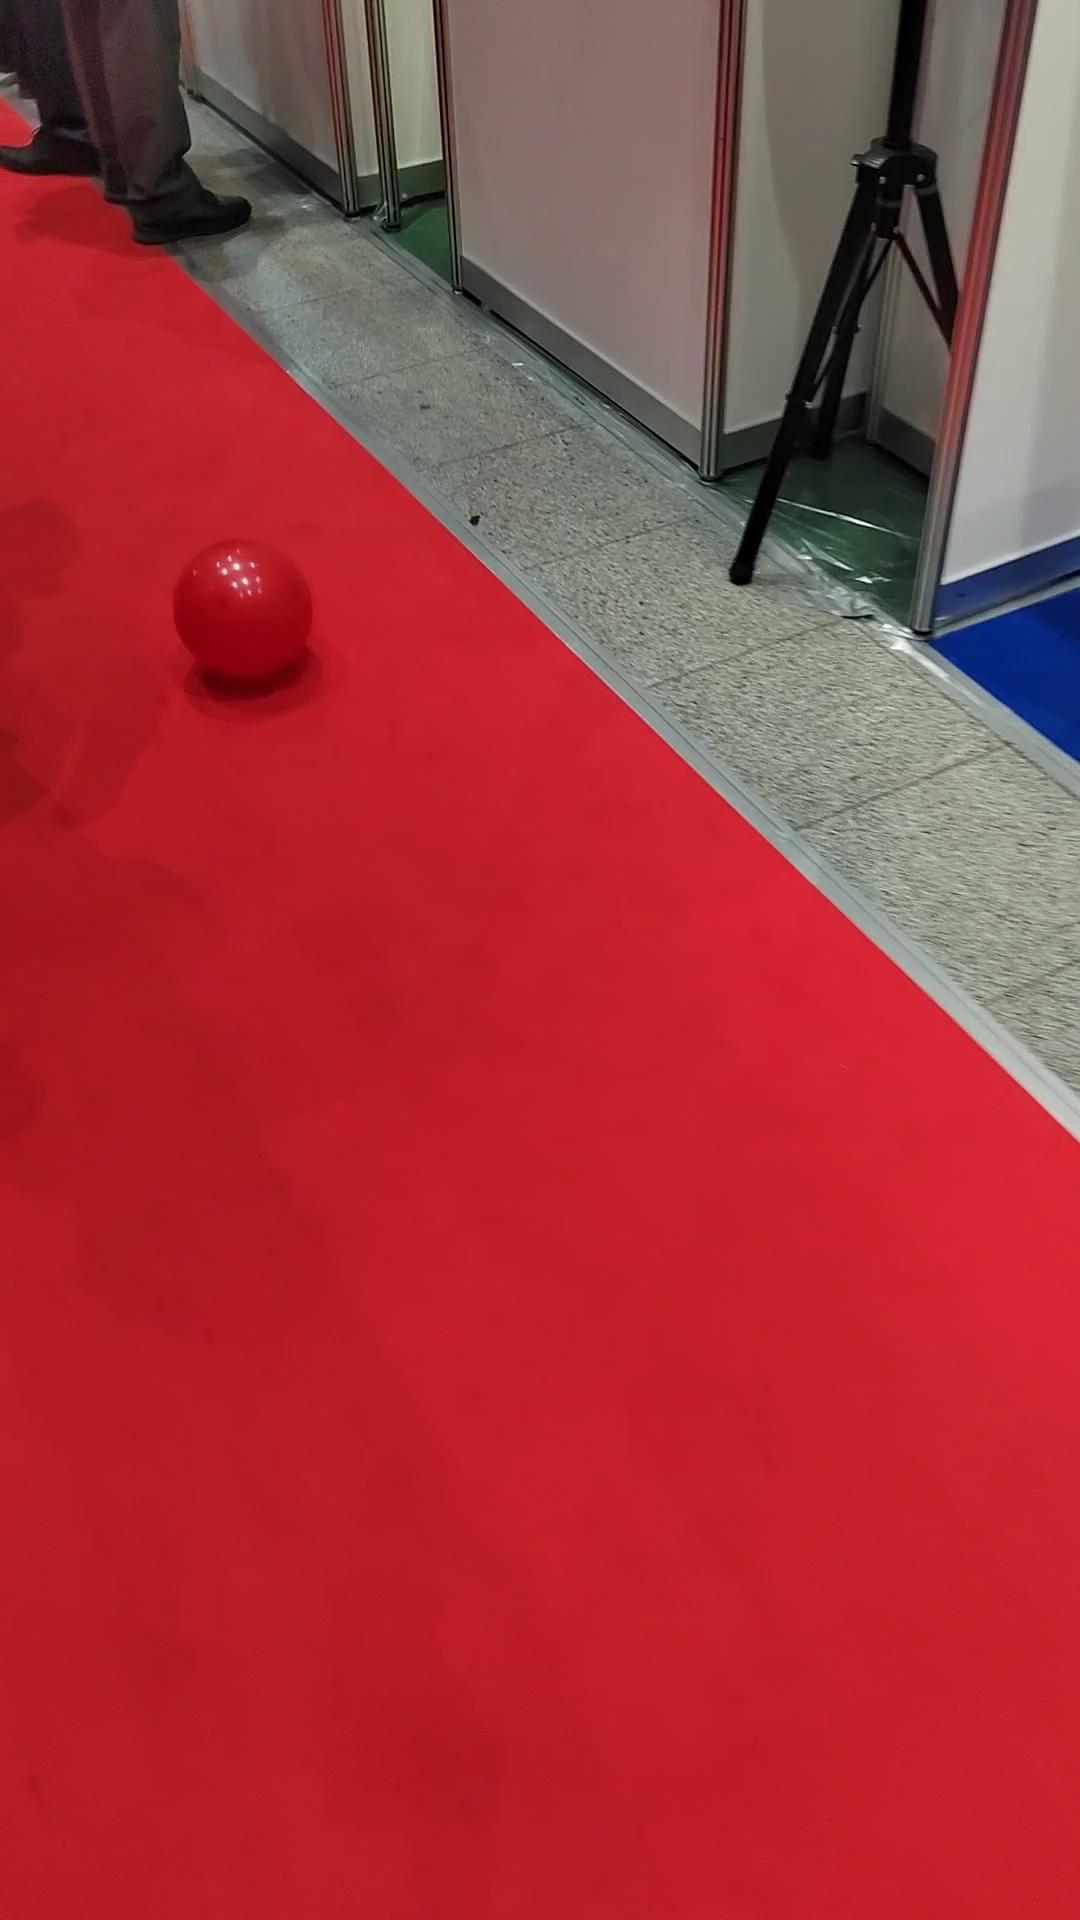red: (171, 541, 314, 680)
